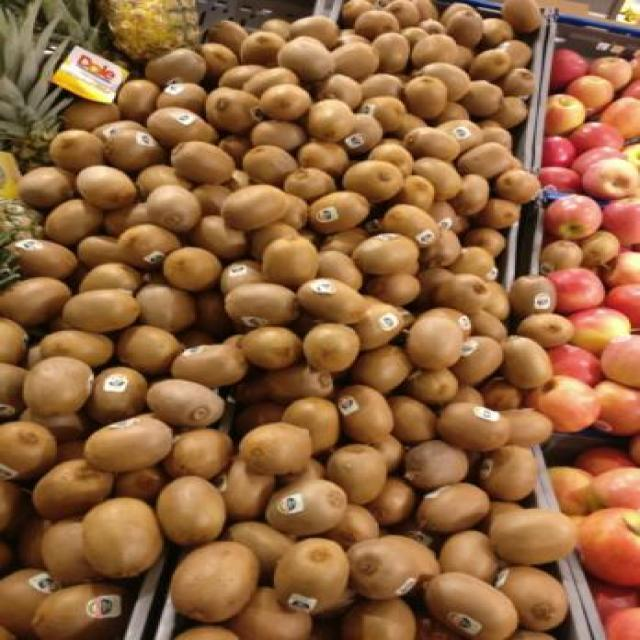kiwi: (170, 541, 258, 622), (82, 498, 163, 578), (425, 575, 518, 640), (348, 535, 440, 599), (273, 538, 350, 612), (32, 585, 130, 640), (85, 415, 172, 472), (157, 476, 227, 546), (33, 459, 113, 519), (265, 479, 348, 536), (488, 509, 573, 564), (495, 568, 565, 631), (42, 519, 102, 585), (233, 588, 310, 639), (25, 358, 92, 416), (238, 422, 312, 474), (0, 569, 58, 634), (417, 482, 490, 533), (147, 379, 223, 427), (327, 444, 387, 504), (218, 458, 275, 521), (437, 402, 510, 451), (225, 522, 293, 574), (85, 366, 147, 423), (0, 278, 72, 327), (163, 429, 232, 478), (282, 396, 340, 453), (0, 421, 57, 479), (478, 445, 537, 501), (62, 290, 140, 332), (337, 385, 393, 443), (172, 344, 247, 387), (225, 284, 298, 328), (403, 440, 468, 489), (117, 326, 182, 375), (298, 278, 367, 323), (222, 184, 288, 231), (342, 598, 415, 640), (407, 316, 463, 369), (352, 345, 413, 393), (262, 235, 318, 287), (442, 530, 498, 582), (137, 284, 197, 332), (500, 335, 553, 389), (147, 108, 218, 148), (118, 224, 182, 268), (303, 324, 360, 372), (170, 142, 235, 184), (8, 239, 78, 278), (352, 235, 420, 275), (163, 246, 222, 292), (45, 199, 103, 245), (277, 36, 335, 82), (240, 326, 302, 369), (42, 330, 113, 367), (147, 185, 202, 232), (105, 129, 165, 172), (310, 191, 370, 234), (452, 336, 503, 386), (188, 216, 247, 259), (77, 166, 135, 209), (382, 204, 440, 247), (207, 88, 262, 133), (343, 161, 403, 202), (353, 302, 403, 351), (269, 364, 333, 402), (360, 99, 425, 136), (325, 504, 380, 547), (18, 166, 73, 208), (367, 478, 415, 526), (50, 130, 103, 172), (147, 49, 207, 86), (433, 274, 490, 312), (21, 409, 87, 441), (243, 145, 297, 184), (392, 396, 437, 442), (307, 99, 355, 142), (413, 158, 462, 200), (403, 369, 458, 405), (405, 126, 460, 162), (457, 142, 512, 178), (403, 75, 448, 119), (517, 314, 575, 348), (502, 408, 552, 447), (420, 62, 470, 101), (440, 2, 483, 47), (78, 262, 142, 292), (297, 142, 350, 177), (117, 79, 160, 122), (250, 221, 298, 259), (512, 276, 557, 316), (317, 250, 363, 289), (283, 168, 337, 201), (250, 120, 307, 151), (365, 274, 420, 306), (137, 165, 192, 197), (448, 246, 498, 281), (262, 85, 310, 121), (65, 100, 120, 131), (450, 174, 490, 216), (343, 114, 383, 155), (332, 44, 378, 79), (115, 469, 165, 501), (460, 80, 503, 117), (292, 15, 340, 48), (240, 31, 285, 66), (242, 69, 300, 96), (0, 481, 30, 533), (372, 32, 410, 73), (419, 308, 472, 337), (495, 169, 540, 203), (420, 230, 460, 267), (412, 35, 458, 67), (368, 141, 410, 176), (320, 74, 363, 108), (220, 261, 265, 293), (78, 235, 123, 267), (438, 120, 483, 152), (393, 175, 435, 209), (468, 49, 512, 81), (200, 42, 238, 78), (353, 10, 400, 39), (207, 21, 248, 54), (475, 199, 520, 229), (0, 318, 28, 364), (320, 228, 368, 254), (93, 120, 147, 143), (372, 435, 405, 472), (463, 228, 505, 257), (469, 310, 508, 341), (192, 185, 232, 214), (492, 96, 528, 128), (498, 68, 535, 97), (362, 74, 402, 99), (383, 0, 420, 27), (218, 135, 252, 164), (280, 194, 308, 229), (483, 281, 508, 319), (173, 625, 240, 639), (479, 120, 512, 148), (342, 0, 377, 26), (482, 18, 513, 47), (498, 40, 530, 67), (428, 201, 455, 229), (435, 102, 469, 124), (450, 385, 483, 406), (262, 20, 292, 38), (402, 26, 428, 46), (130, 202, 150, 227), (412, 0, 438, 19), (338, 29, 370, 44), (455, 45, 473, 69)
